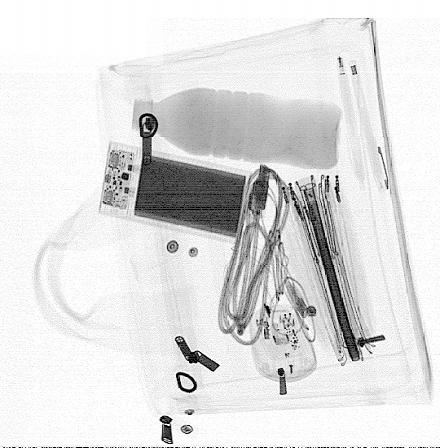Powerbank: (98, 140, 252, 246)
